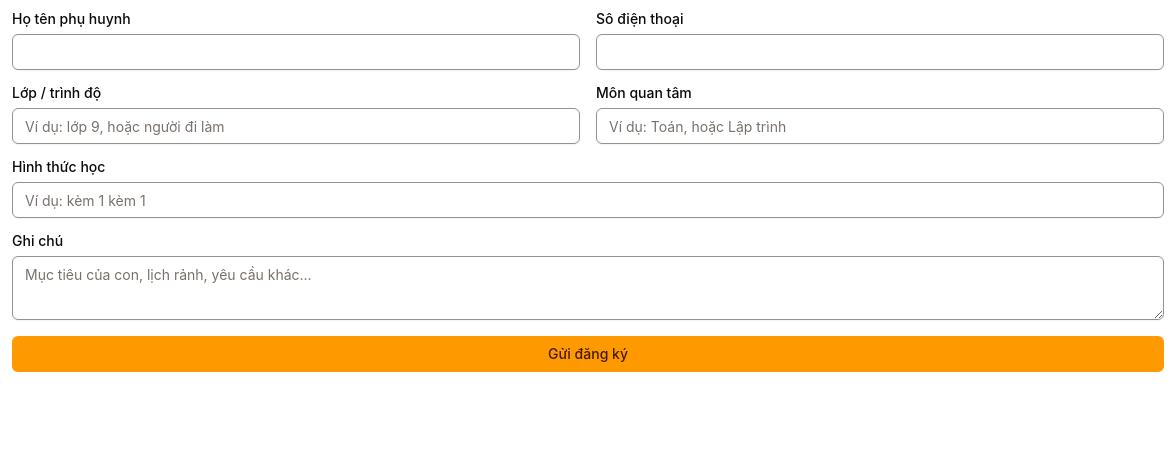
Test: ConsultationForm › gives the failure message its own icon so it cannot be read as brand emphasis
The width and height of the screenshot is (1176, 451).
Type "Nguyễn Văn A" into the field labelled "Họ tên phụ huynh" at (296, 52), box top-left (12, 34), bottom-right (580, 70)
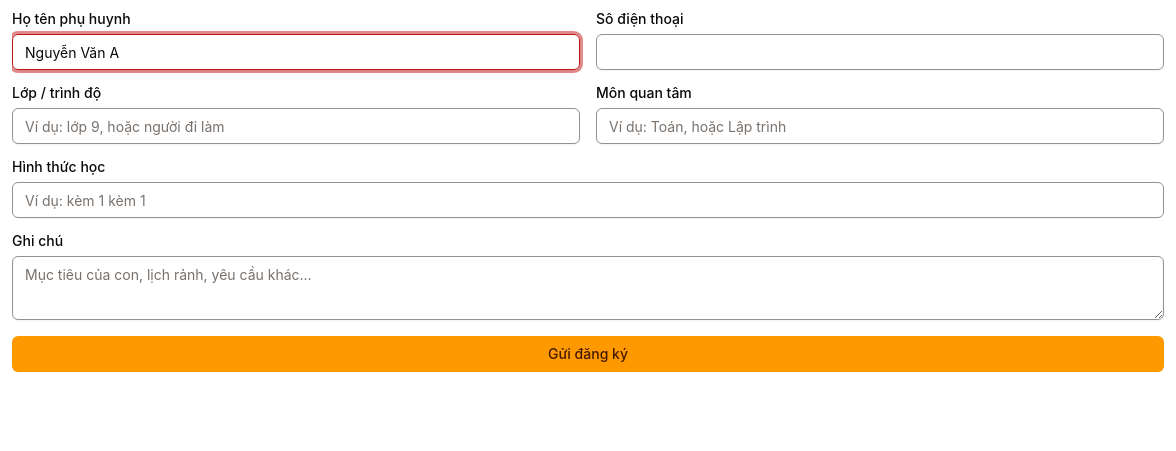
Type "0912345678" into the field labelled "Số điện thoại" at (880, 52), box top-left (596, 34), bottom-right (1164, 70)
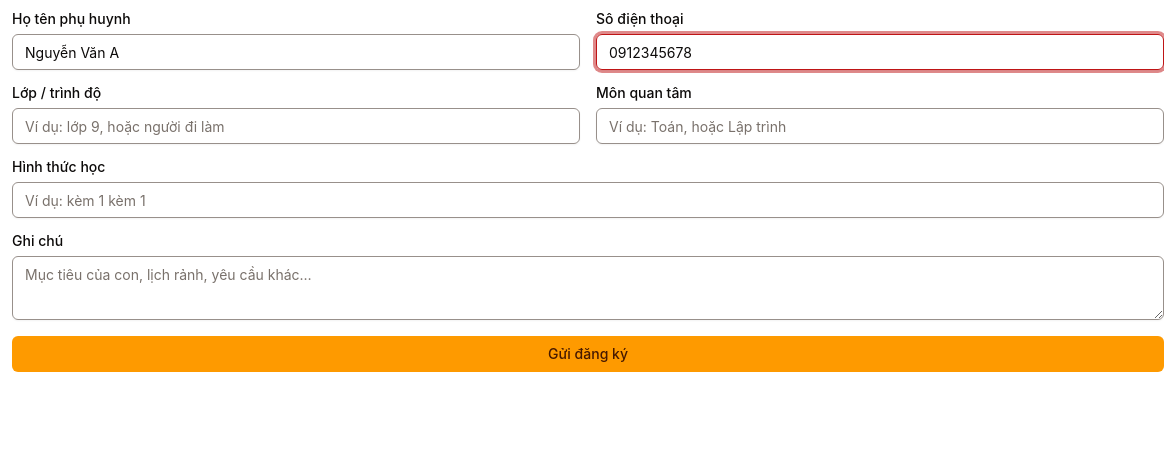
Type "9" into the field labelled "Lớp / trình độ" at (296, 126), box top-left (12, 108), bottom-right (580, 144)
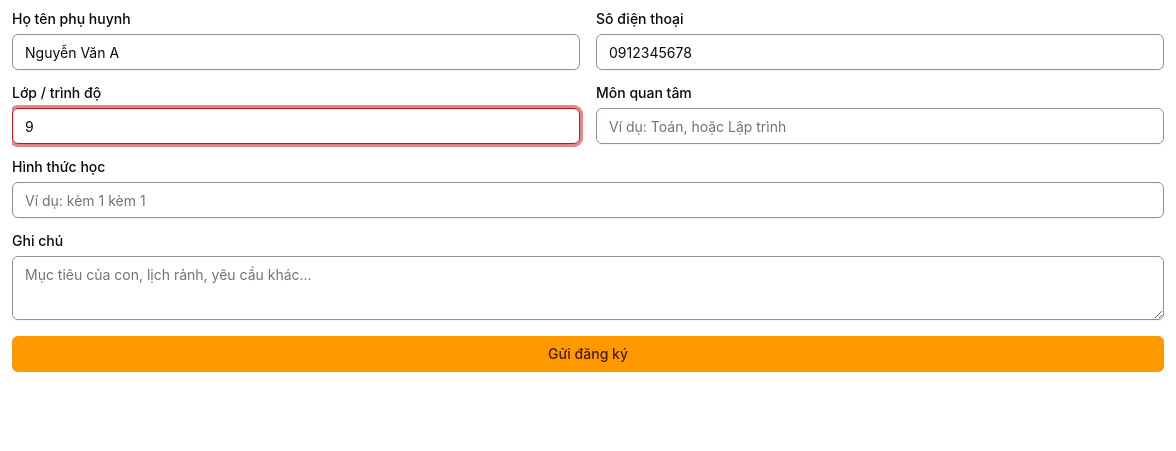
Type "Toán" into the field labelled "Môn quan tâm" at (880, 126), box top-left (596, 108), bottom-right (1164, 144)
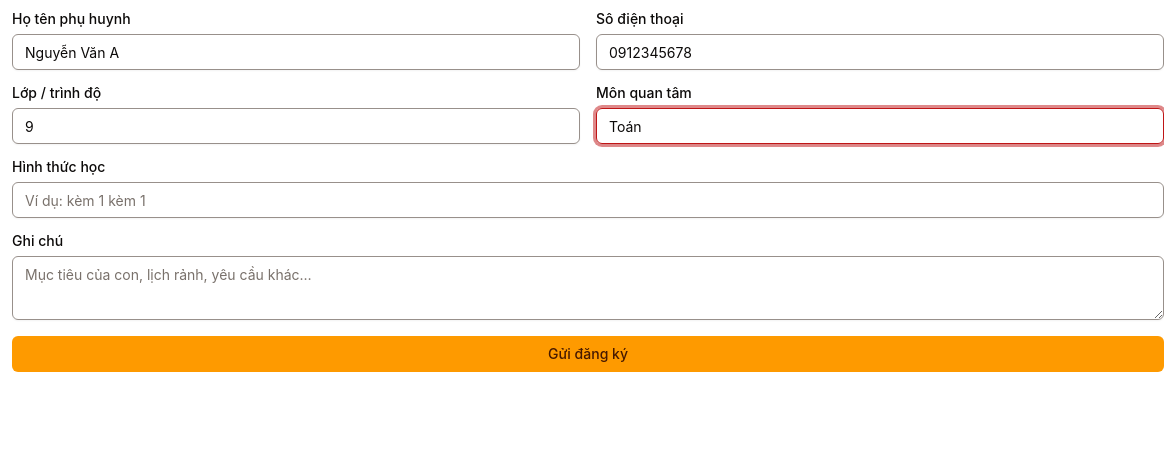
Type "1 kèm 1" into the field labelled "Hình thức học" at (588, 200), box top-left (12, 182), bottom-right (1164, 218)
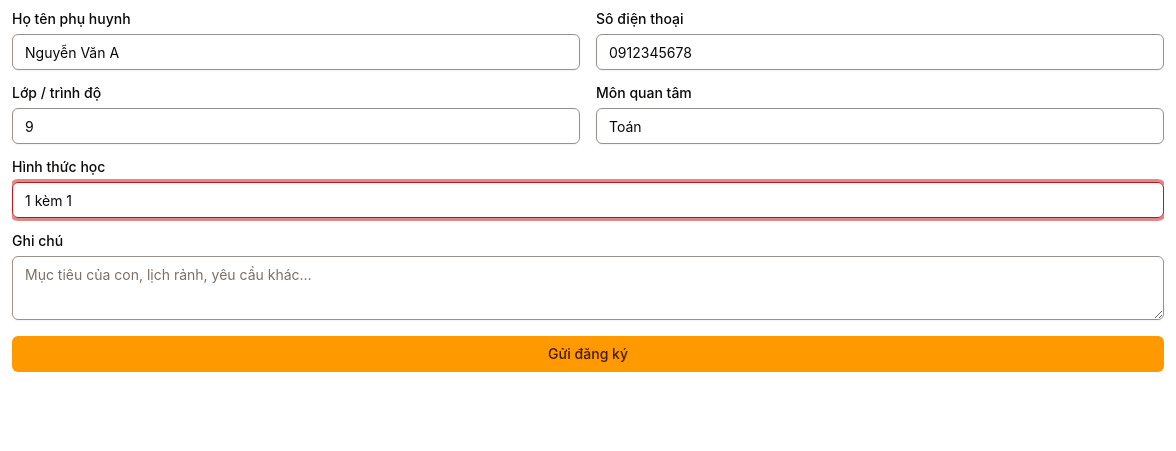
Click the button "Gửi đăng ký" at (588, 354), box top-left (12, 336), bottom-right (1164, 372)
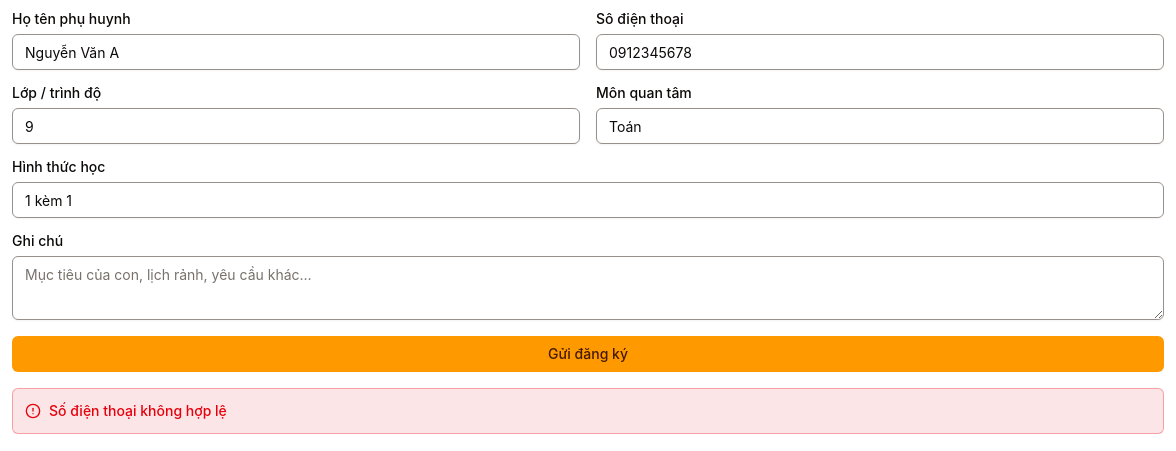
Check: the icon is shown, box top-left (25, 403), bottom-right (41, 419)
